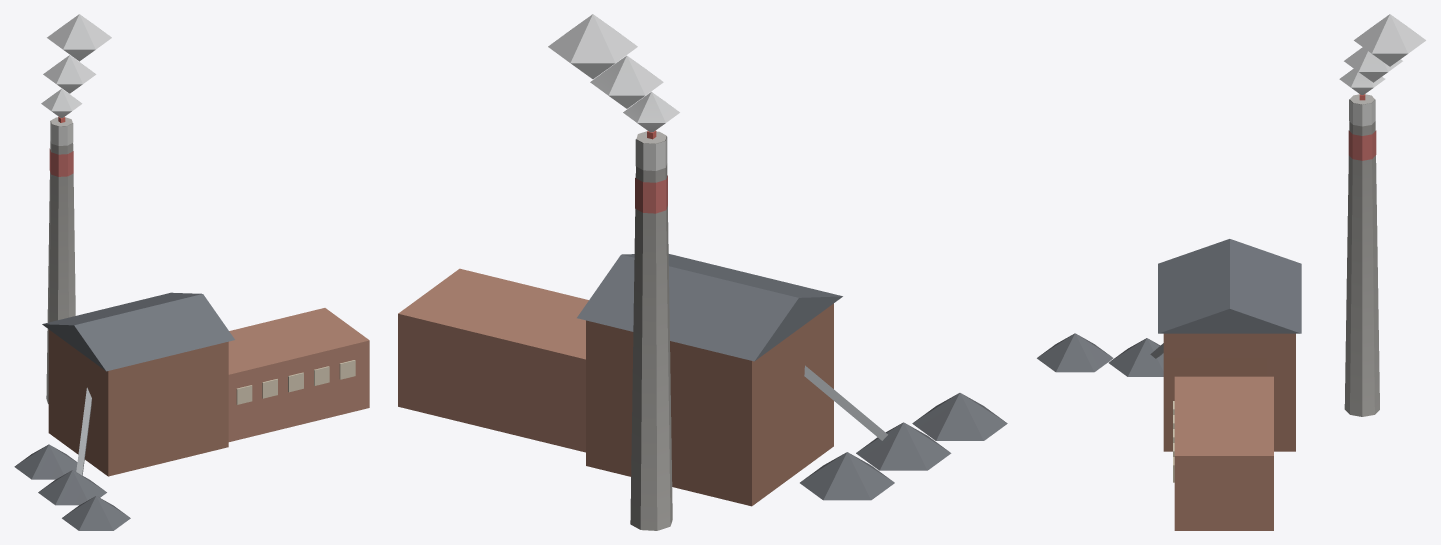
File: plant_steam_l1.glb
3 views of the same model, side by side, from view 1: azimuth 30°, elevation 25°; view 2: azimuth 150°, elevation 25°; view 3: azimuth 270°, elevation 25° (orthographic). The views are drawn at different scales.
Parts seen in each view (by area): view 1: plant_steam_l1; view 2: plant_steam_l1; view 3: plant_steam_l1.
Part boxes in pixels (x1,y1,x2,y2): plant_steam_l1: (14, 14, 369, 530); plant_steam_l1: (398, 14, 1007, 530); plant_steam_l1: (1037, 14, 1425, 530).
Size of the model in its own units: 80.06 by 82.28 by 70.6.
